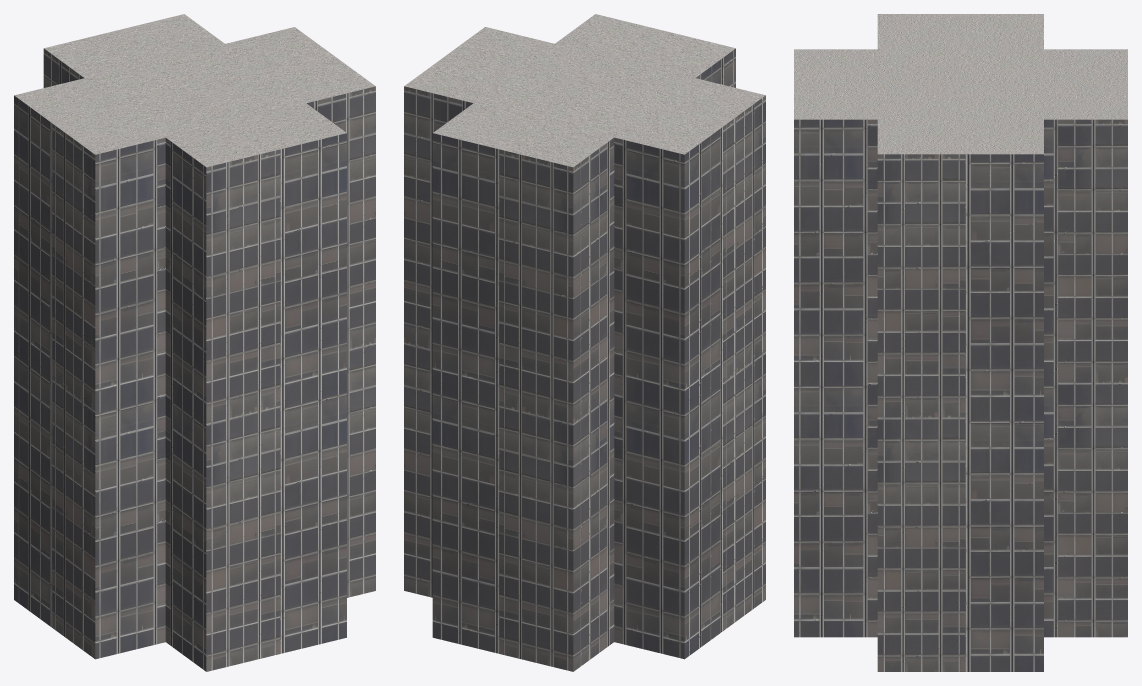
File: Skyscraper3.fbx
3 views of the same model, side by side, from view 1: azimuth 30°, elevation 25°; view 2: azimuth 150°, elevation 25°; view 3: azimuth 270°, elevation 25° (orthographic). The views are drawn at different scales.
Parts seen in each view (by area): view 1: building_019.001; view 2: building_019.001; view 3: building_019.001.
Part boxes in pixels (x1,y1,x2,y2): building_019.001: [14, 14, 375, 671]; building_019.001: [404, 14, 765, 671]; building_019.001: [794, 14, 1127, 671].
Bounding box in the file's own units: 1397 × 2400 × 1403.
2 materials, 2 textured.
